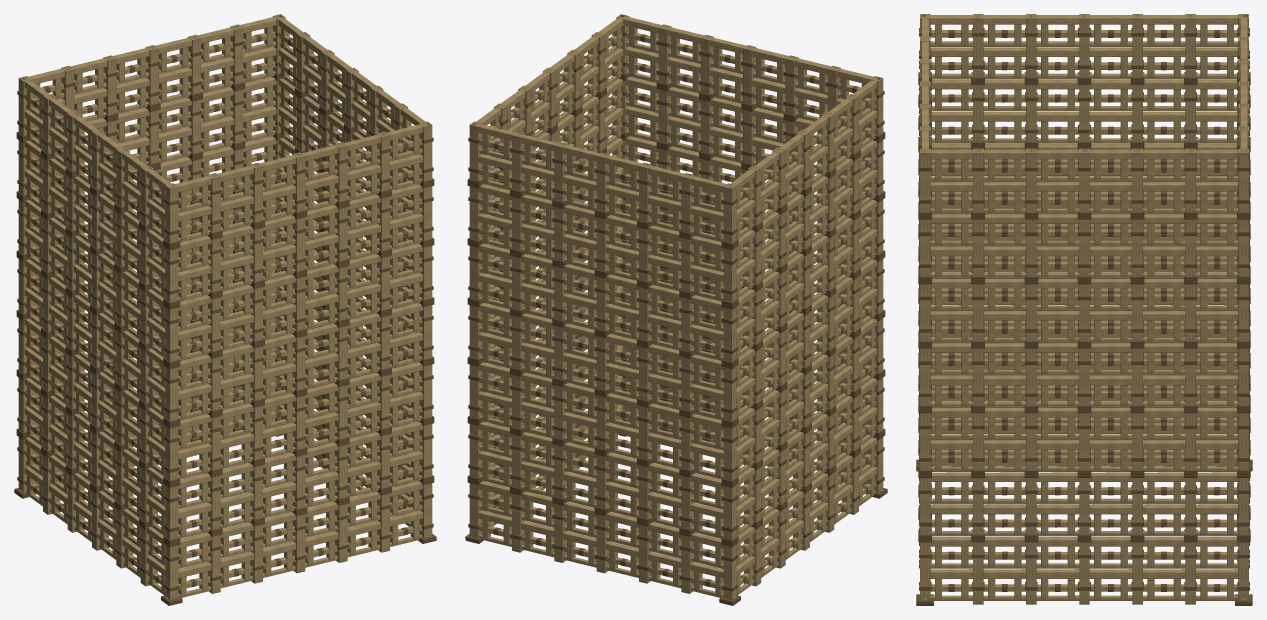
3 views of the same model, side by side, from view 1: azimuth 30°, elevation 25°; view 2: azimuth 150°, elevation 25°; view 3: azimuth 270°, elevation 25° (orthographic). The views are drawn at different scales.
Parts seen in each view (by area): view 1: Tier 6 side 0 post 0, Tier 0 side 0 post 0, Tier 2 side 0 post 0, Tier 1 side 0 post 0, Tier 3 side 0 post 0, Tier 4 side 0 post 0, Tier 5 side 0 post 0, Tier 6 side 1 post 0, Tier 6 side 2 post 4, Tier 6 side 0 post 3, Tier 0 side 0 post 3, Tier 6 side 2 post 1 (+16 smaller); view 2: Tier 6 side 3 post 0, Tier 0 side 3 post 0, Tier 3 side 3 post 0, Tier 1 side 3 post 0, Tier 5 side 3 post 0, Tier 2 side 3 post 0, Tier 4 side 3 post 0, Tier 6 side 0 post 4, Tier 6 side 2 post 0, Tier 6 side 2 post 3, Tier 0 side 2 post 3, Tier 6 side 0 post 2 (+21 smaller); view 3: Tier 6 side 1 post 0, Tier 6 side 1 post 1, Tier 6 side 1 post 2, Tier 6 side 1 post 3, Tier 6 side 1 post 4, Tier 6 side 1 post 5, Tier 6 side 2 post 0, Tier 0 side 1 post 1, Tier 0 side 1 post 2, Tier 0 side 1 post 3, Tier 0 side 1 post 4, Tier 0 side 1 post 5 (+81 smaller).
Part boxes in pixels (bbox=[...]): Tier 6 side 0 post 0: bbox=[165, 183, 178, 243]; Tier 0 side 0 post 0: bbox=[165, 544, 178, 599]; Tier 2 side 0 post 0: bbox=[165, 425, 178, 480]; Tier 1 side 0 post 0: bbox=[165, 485, 178, 539]; Tier 3 side 0 post 0: bbox=[165, 366, 178, 421]; Tier 4 side 0 post 0: bbox=[165, 307, 178, 361]; Tier 5 side 0 post 0: bbox=[165, 247, 178, 302]; Tier 6 side 1 post 0: bbox=[419, 121, 432, 181]; Tier 6 side 2 post 4: bbox=[103, 55, 116, 115]; Tier 6 side 0 post 3: bbox=[292, 152, 305, 212]; Tier 0 side 0 post 3: bbox=[292, 514, 305, 573]; Tier 6 side 2 post 1: bbox=[230, 24, 243, 84]; Tier 6 side 3 post 0: bbox=[723, 183, 736, 243]; Tier 0 side 3 post 0: bbox=[723, 544, 736, 599]; Tier 3 side 3 post 0: bbox=[723, 366, 736, 421]; Tier 1 side 3 post 0: bbox=[723, 485, 736, 539]; Tier 5 side 3 post 0: bbox=[723, 247, 736, 302]; Tier 2 side 3 post 0: bbox=[723, 425, 736, 480]; Tier 4 side 3 post 0: bbox=[723, 307, 736, 361]; Tier 6 side 0 post 4: bbox=[700, 34, 713, 94]; Tier 6 side 2 post 0: bbox=[469, 121, 482, 181]; Tier 6 side 2 post 3: bbox=[596, 152, 609, 212]; Tier 0 side 2 post 3: bbox=[596, 514, 609, 573]; Tier 6 side 0 post 2: bbox=[785, 55, 798, 115]; Tier 6 side 1 post 0: bbox=[920, 148, 930, 212]; Tier 6 side 1 post 1: bbox=[973, 148, 983, 212]; Tier 6 side 1 post 2: bbox=[1026, 148, 1036, 212]; Tier 6 side 1 post 3: bbox=[1079, 148, 1089, 212]; Tier 6 side 1 post 4: bbox=[1132, 148, 1142, 212]; Tier 6 side 1 post 5: bbox=[1185, 148, 1195, 212]; Tier 6 side 2 post 0: bbox=[1238, 148, 1248, 212]; Tier 0 side 1 post 1: bbox=[973, 542, 983, 604]; Tier 0 side 1 post 2: bbox=[1026, 542, 1036, 604]; Tier 0 side 1 post 3: bbox=[1079, 542, 1089, 604]; Tier 0 side 1 post 4: bbox=[1132, 542, 1142, 604]; Tier 0 side 1 post 5: bbox=[1185, 542, 1195, 604].
Size of the model in its own units: 2.85 by 4.22 by 2.85.
Materials: 2 (2 with a texture image).
